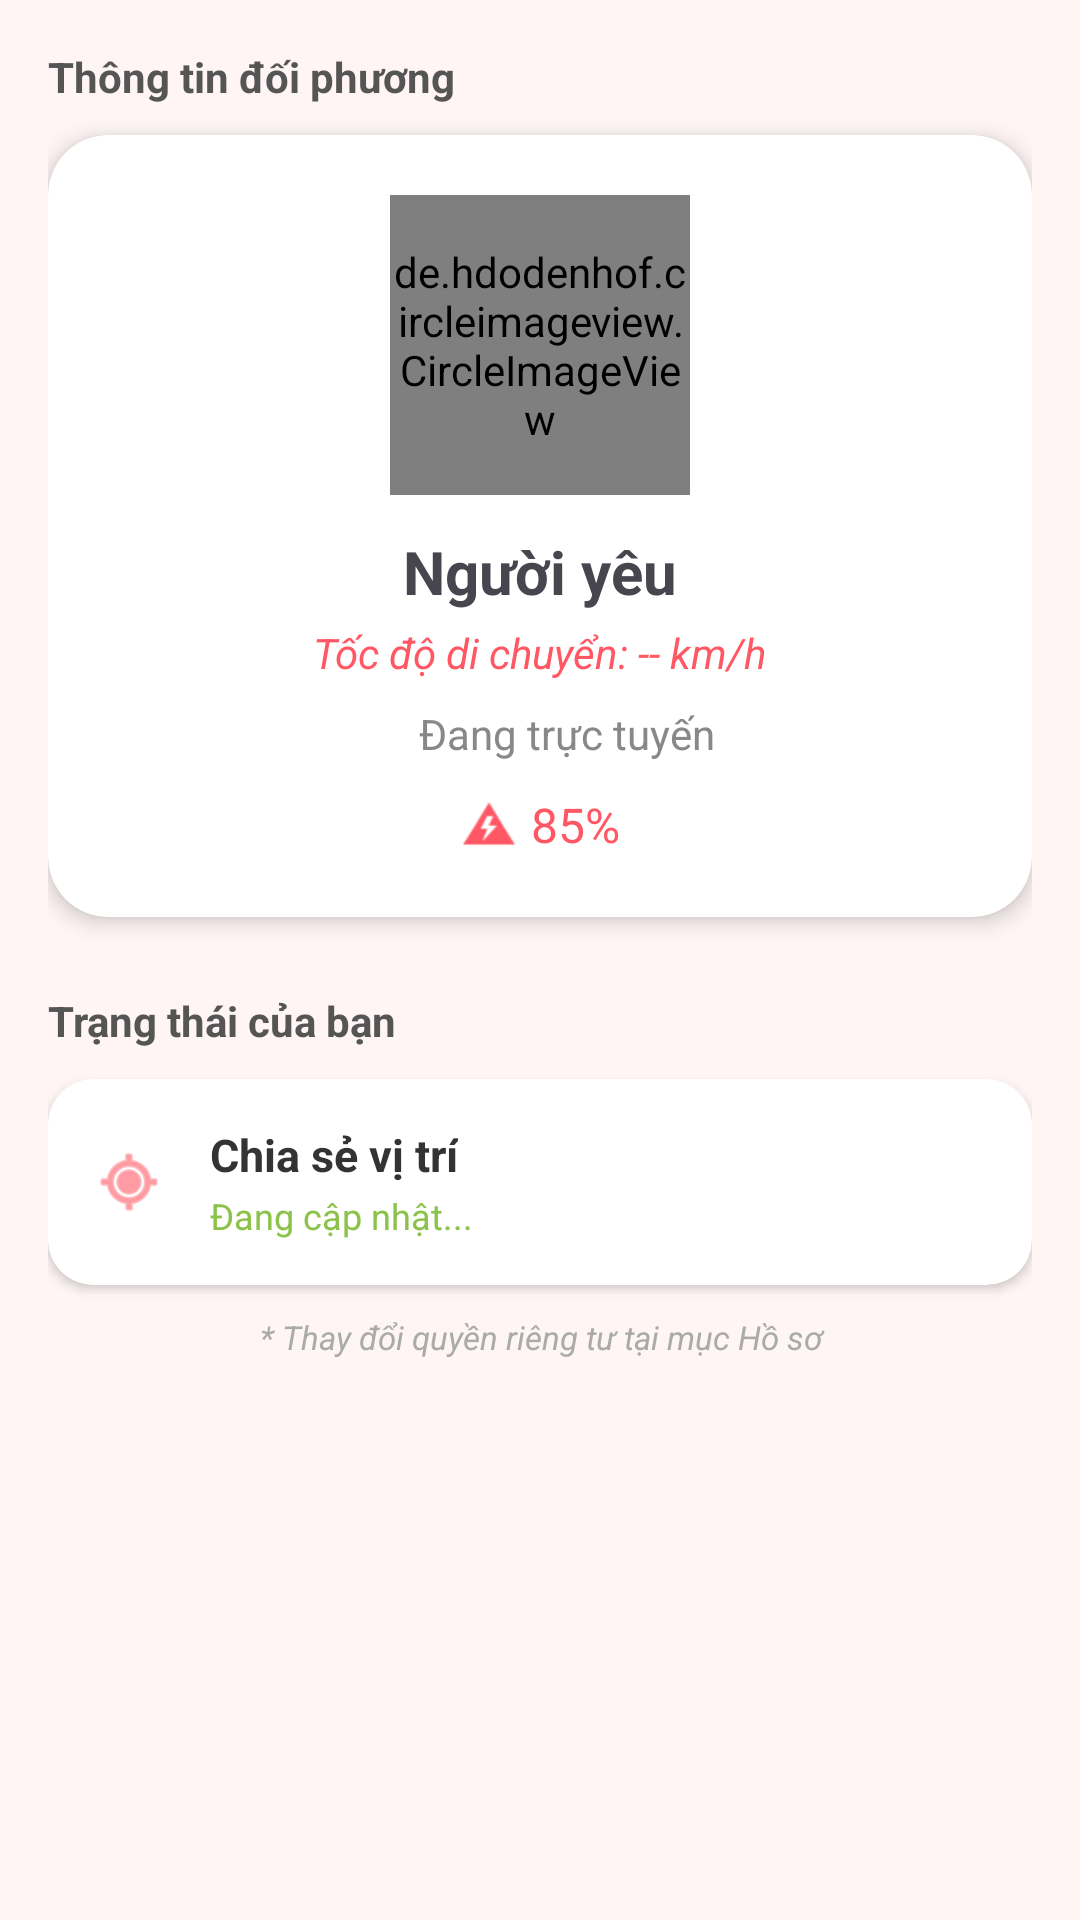

Where to tap for icons on this 1080 x 1920 app screen, as [x,y]:
lock idle low battery: [489,824]
mylocation: [129,1182]
